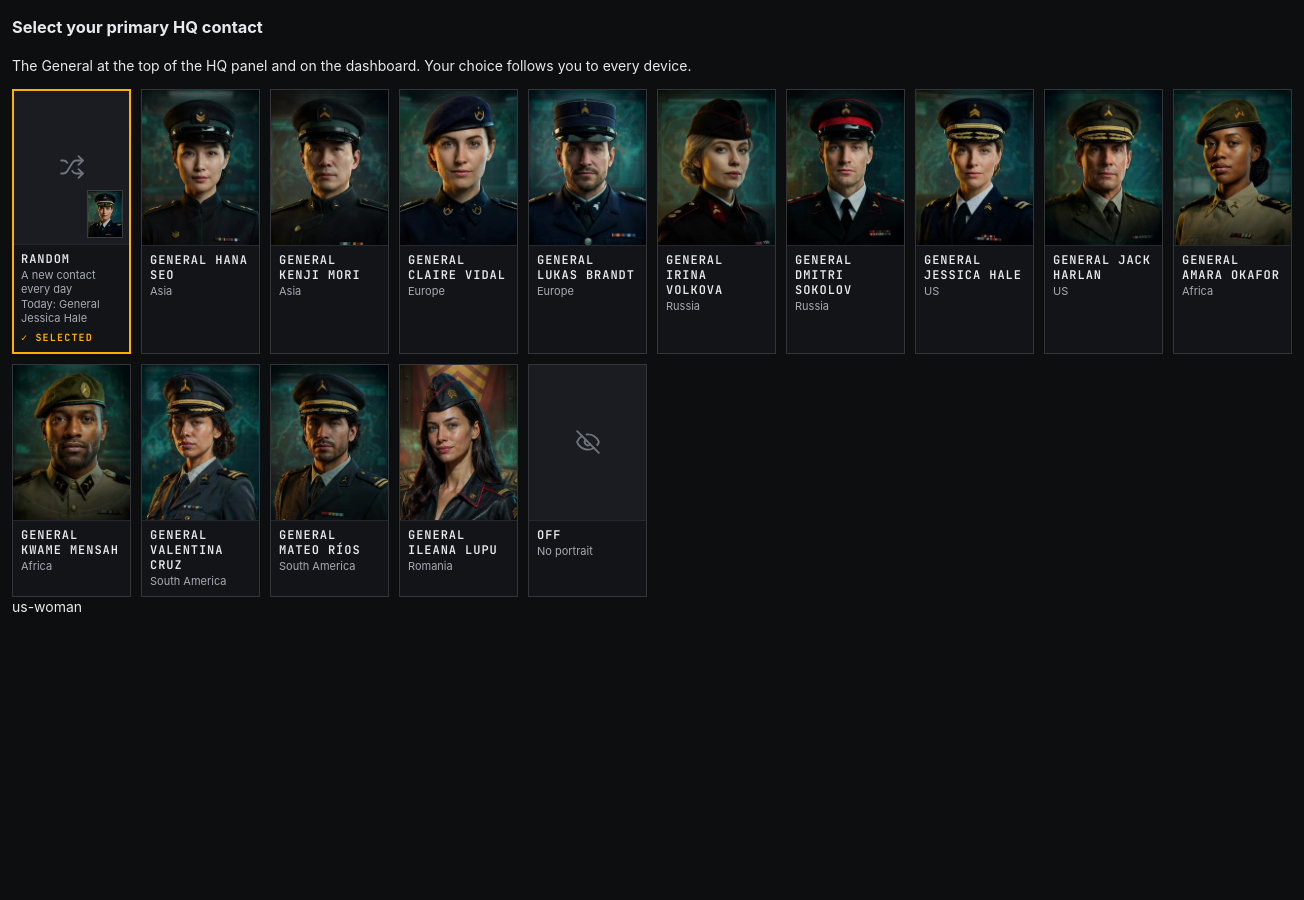
Test: a refused pick never hides an earlier pick the server accepted; every consumer follows it
This screenshot has width=1304, height=900.
Click the radio button labelled "General Jack Harlan US". click: click(1104, 222)
box: [1044,89,1163,354]
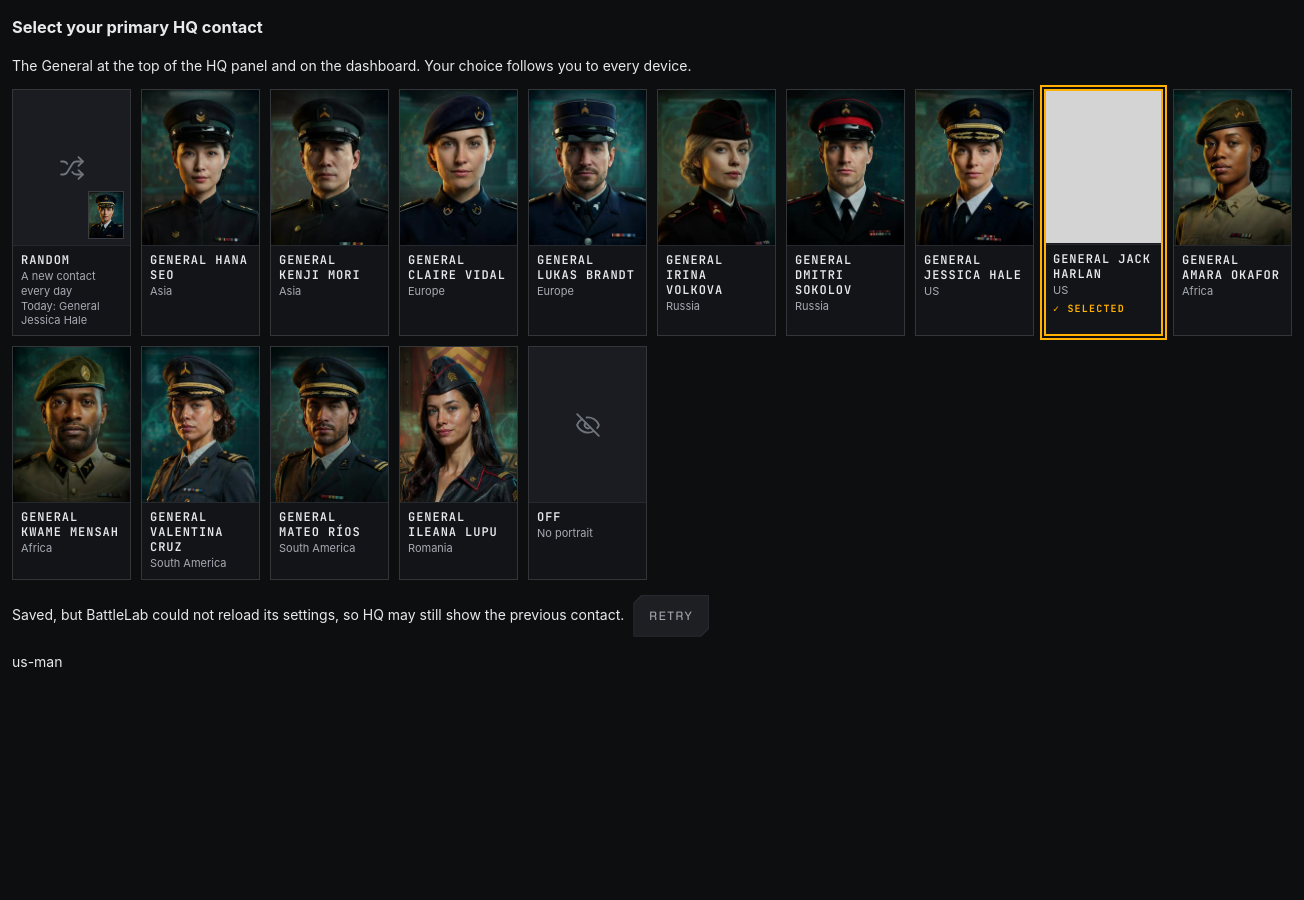
Check: the message with test id "hq-contact-refresh-error" is shown, box [12,594,710,638]
Check: the text with test id "who" reads "us-man", box [12,653,62,670]
Click the radio button labelled "General Hana Seo Asia". click: click(200, 213)
box: [141,89,260,336]
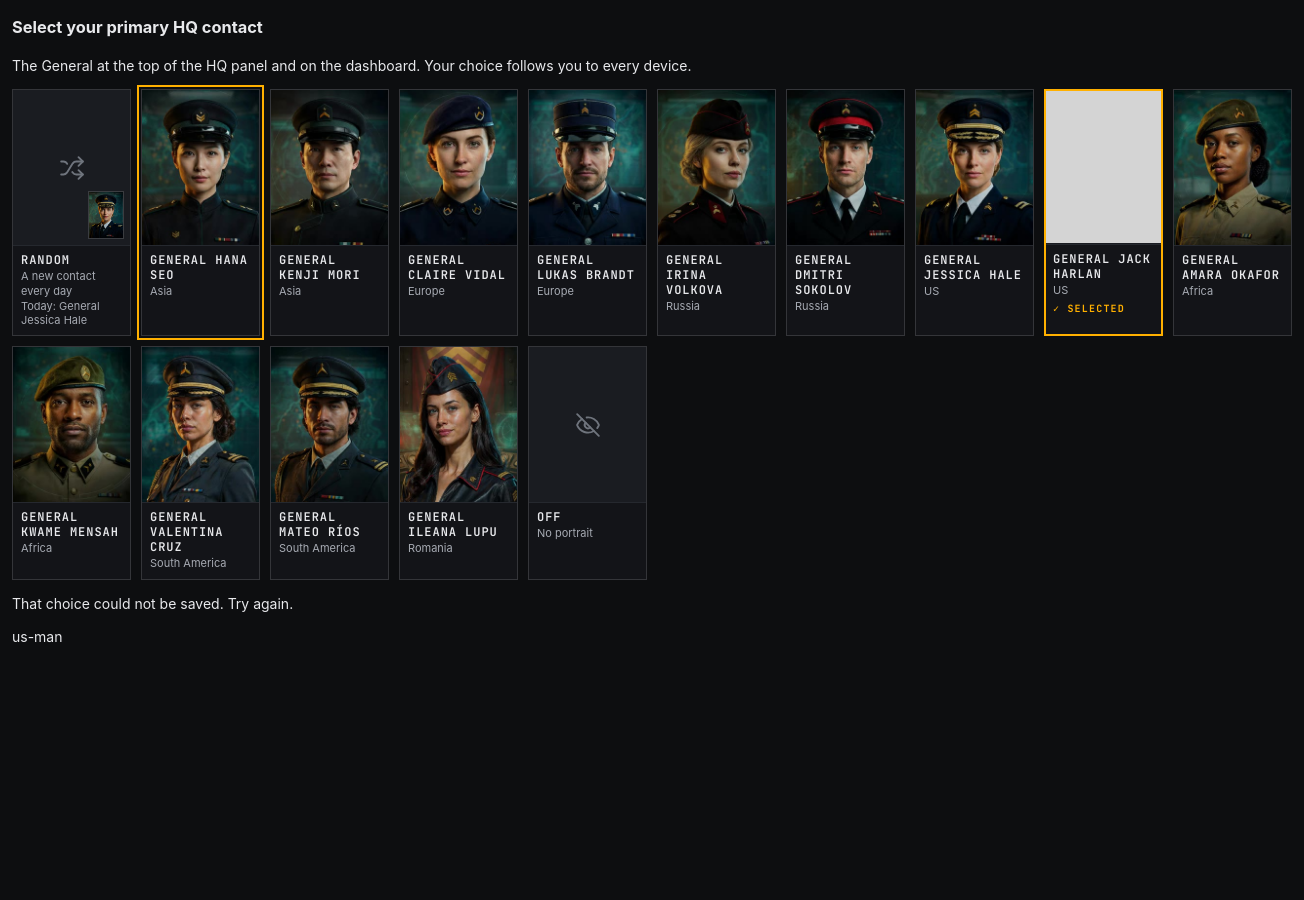
Check: the text with test id "who" reads "us-man", box [12,628,62,645]
Check: the message "That choice could not be saved. Try again." is shown, box [12,595,293,612]
